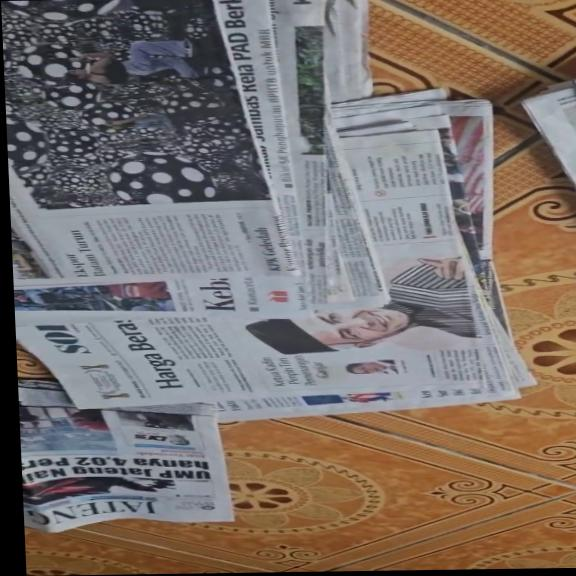Kertas: (6, 136, 281, 399), (302, 116, 509, 399), (18, 405, 228, 520)
